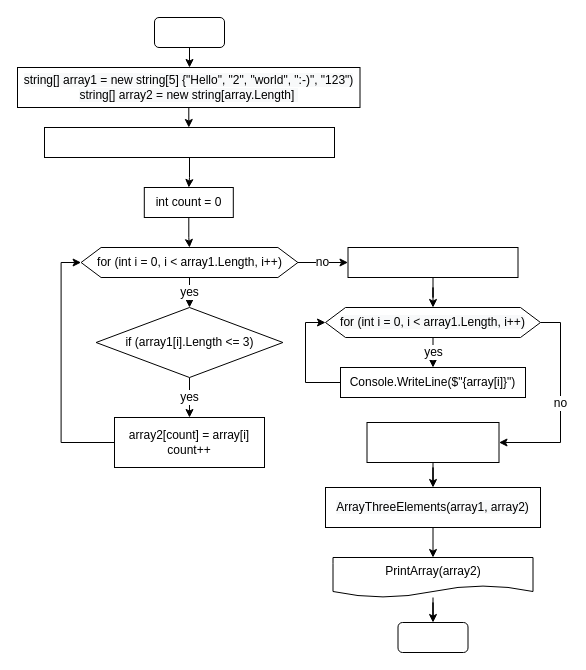
The diagram is 586 pixels wide and 670 high, and some of its shapes have lost their labels. Here are the shapes that lost their labels. From the top down, the box of each, then its label:
(154, 16, 224, 48): Start
(44, 126, 334, 158): ArrayThreeElements(string[] array1, string[] array2)
(347, 246, 518, 278): PrintArray(string[] array)
(366, 422, 499, 462): Console.WriteLine()
(397, 622, 468, 652): Finish
